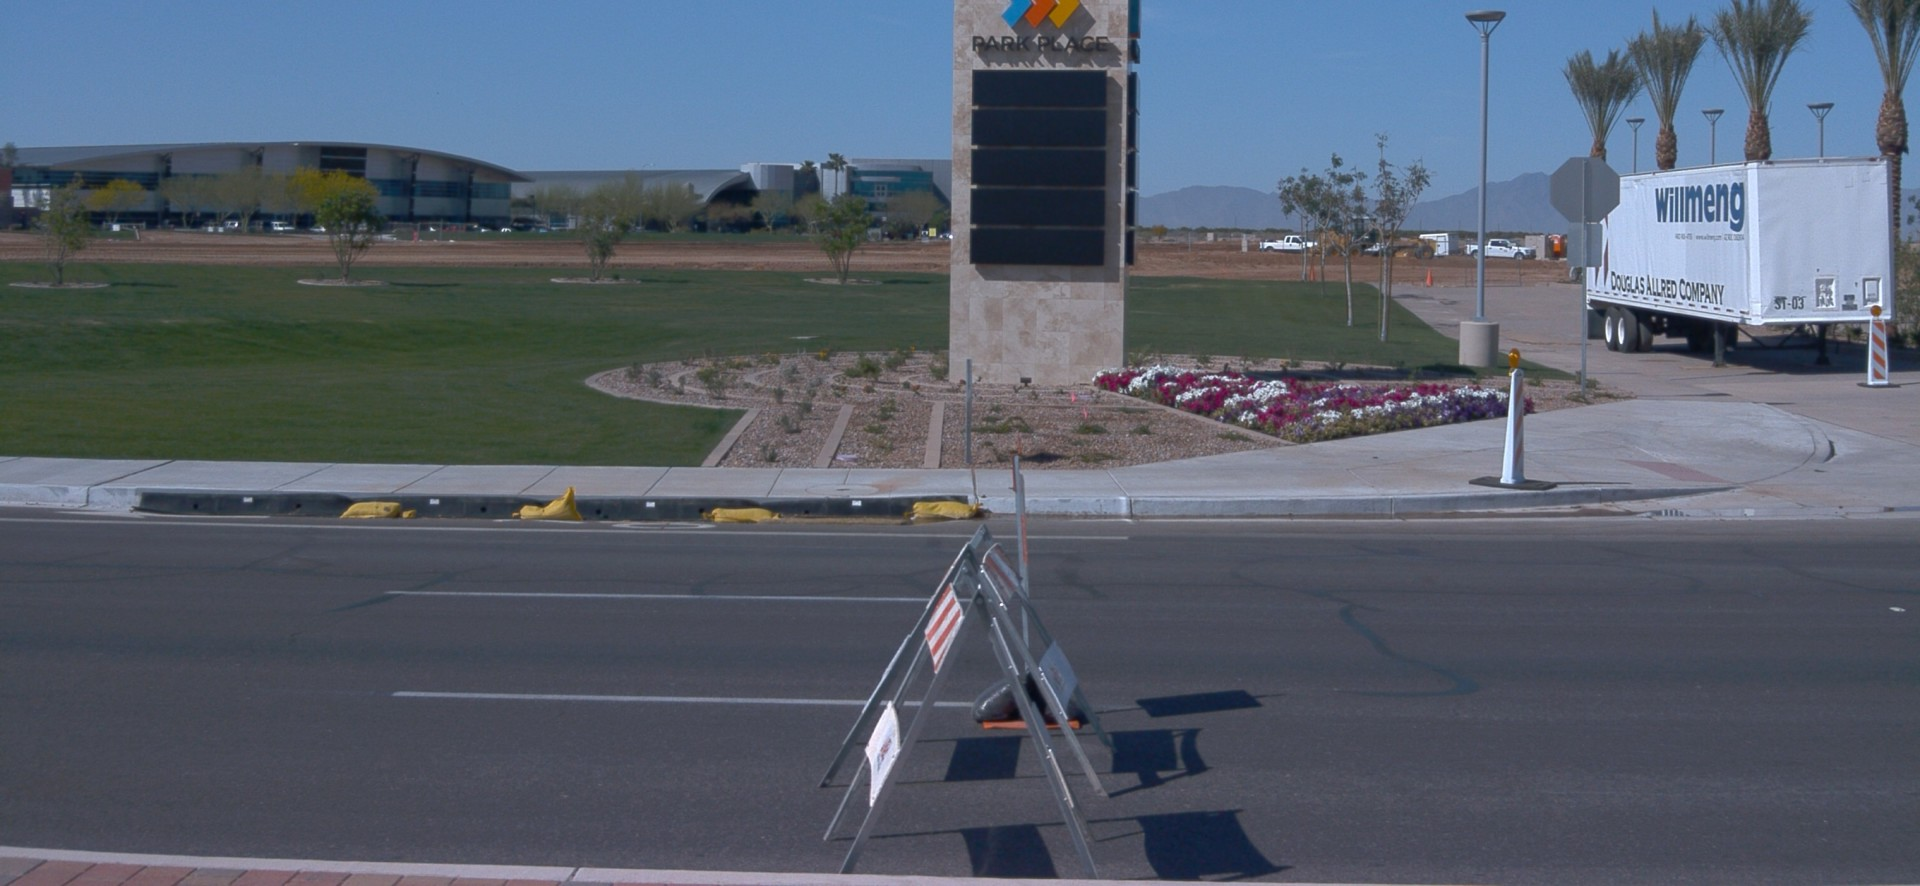TYPE_PEDESTRIAN: (1569, 265, 1582, 284)
TYPE_VEHICLE: (1582, 150, 1897, 369), (1315, 209, 1436, 260), (1465, 237, 1538, 261), (1257, 235, 1321, 255), (1422, 231, 1463, 258), (1360, 236, 1385, 257), (270, 223, 293, 234), (224, 221, 239, 231), (202, 220, 220, 228), (308, 228, 327, 234), (503, 231, 513, 235)
